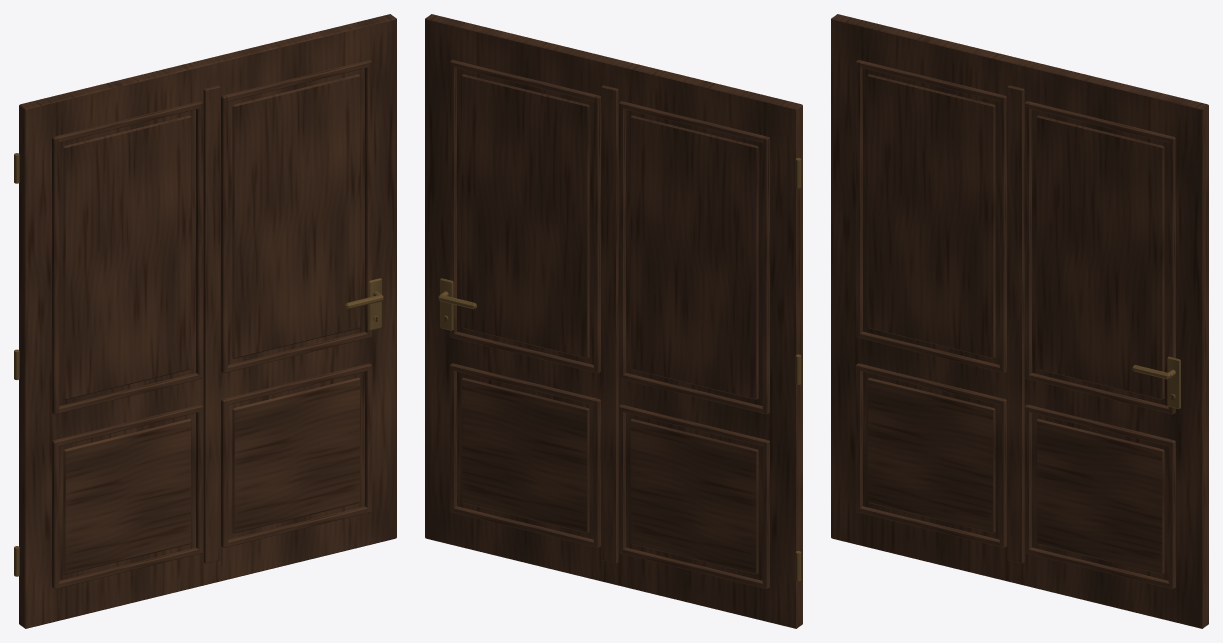
Rendered from Door.fbx.
The picture shows the model from 3 angles, left to right: view 1: azimuth 30°, elevation 25°; view 2: azimuth 150°, elevation 25°; view 3: azimuth 330°, elevation 25°; orthographic projection.
Visible parts, largest first — view 1: SM_Door; view 2: SM_Door; view 3: SM_Door.
Part boxes in pixels (x1,y1,x2,y2): SM_Door: (14,14,396,628); SM_Door: (425,14,802,628); SM_Door: (831,14,1208,628).
Bounding box in the file's own units: 180 × 238 × 23.1.
2 materials, 2 textured.
